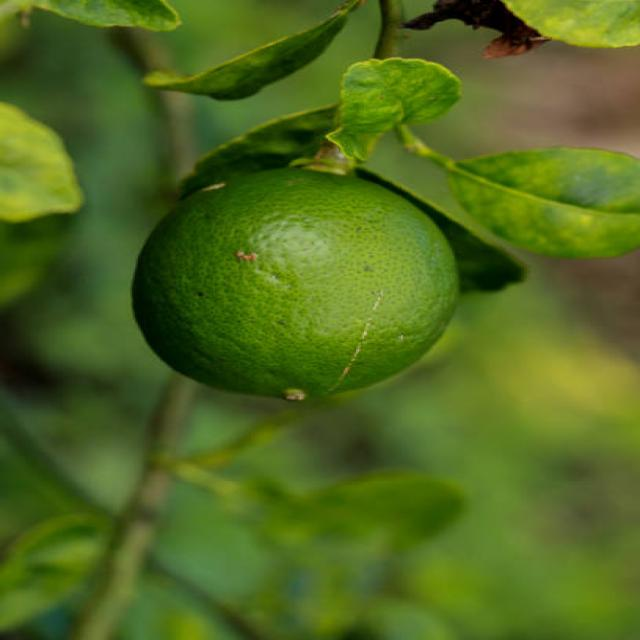Unripe: (130, 164, 459, 402)
